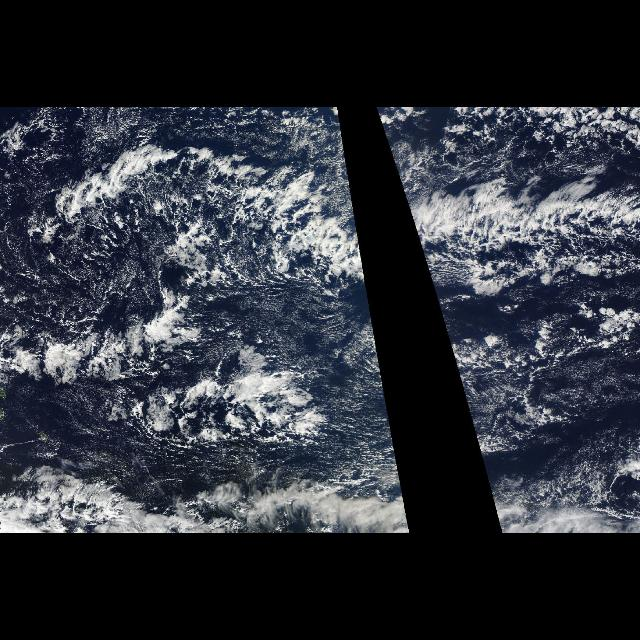Fish: (1, 142, 373, 456), (387, 142, 639, 308)
Gravel: (440, 311, 636, 391)
Sugar: (409, 178, 637, 290), (456, 364, 546, 472), (319, 364, 399, 472)
